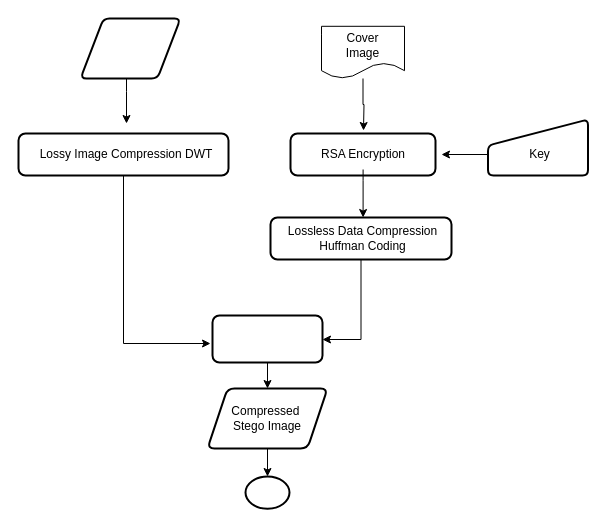
Some shapes in this 606 by 527 pixel diagram are drawn without their labels. Here are the shapes that lost their labels. From the top down, the centre of each, then its label:
At [130,48]: "Secret Message".
At [267,338]: "Hash LSB technique".
At [267,492]: "END".
